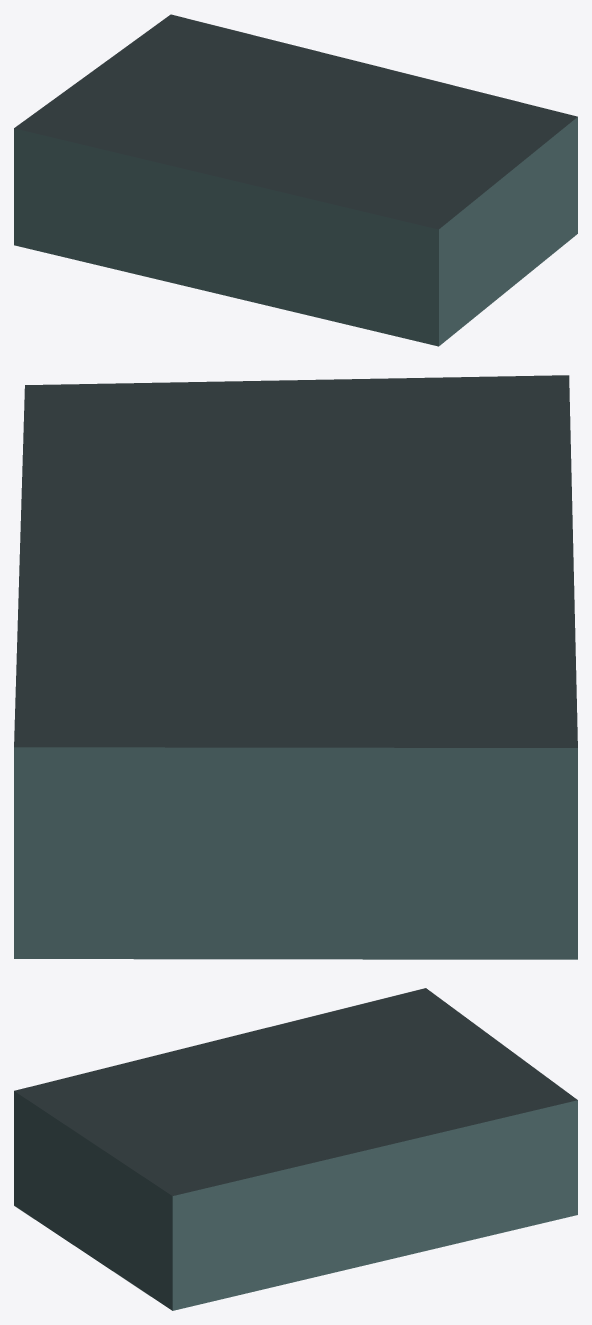
File: nyc-1090168-0.glb
The picture shows the model from 3 angles, top to bottom: view 1: azimuth 30°, elevation 25°; view 2: azimuth 150°, elevation 25°; view 3: azimuth 270°, elevation 25°; orthographic projection. The views are drawn at different scales.
Visible parts, largest first — view 1: nyc-1090168-0; view 2: nyc-1090168-0; view 3: nyc-1090168-0.
Boxes of the visible parts, x1,y1,x2,y2 form: nyc-1090168-0: (14, 14, 577, 346); nyc-1090168-0: (14, 375, 577, 959); nyc-1090168-0: (14, 988, 577, 1310).
Bounding box in the file's own units: 11.86 × 3.05 × 13.58.
